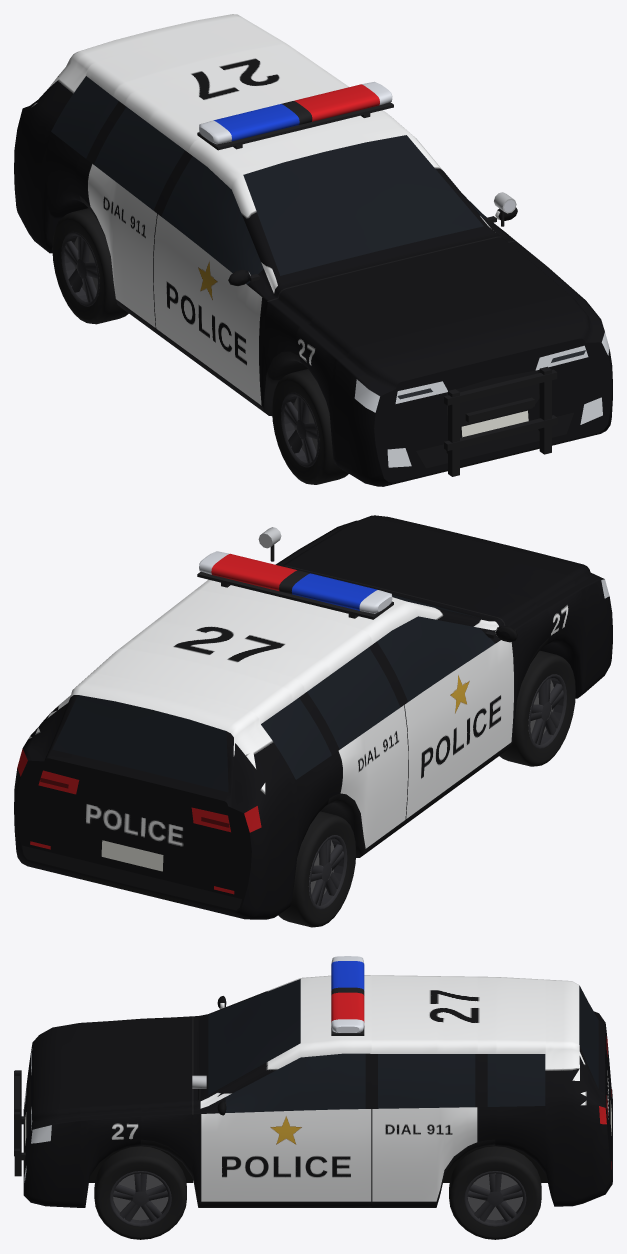
Rendered from police-suv-new.glb.
3 renders of one model, top to bottom at view 1: azimuth 30°, elevation 25°; view 2: azimuth 150°, elevation 25°; view 3: azimuth 270°, elevation 25°, orthographic. The views are drawn at different scales.
Visible parts, largest first — view 1: body, wheel_rr, wheel_fr; view 2: body, wheel_rr, wheel_fr; view 3: body, wheel_fl, wheel_rl.
Part boxes in pixels (x1,y1,x2,y2): body: [14, 14, 612, 486]; wheel_rr: [52, 208, 128, 324]; wheel_fr: [272, 369, 348, 484]; body: [14, 515, 612, 919]; wheel_rr: [278, 811, 356, 927]; wheel_fr: [499, 650, 575, 766]; body: [14, 956, 612, 1207]; wheel_fl: [94, 1146, 186, 1239]; wheel_rl: [449, 1146, 541, 1239].
Bounding box in the file's own units: 2.27 × 1.87 × 5.03.
1 material, 1 textured.
